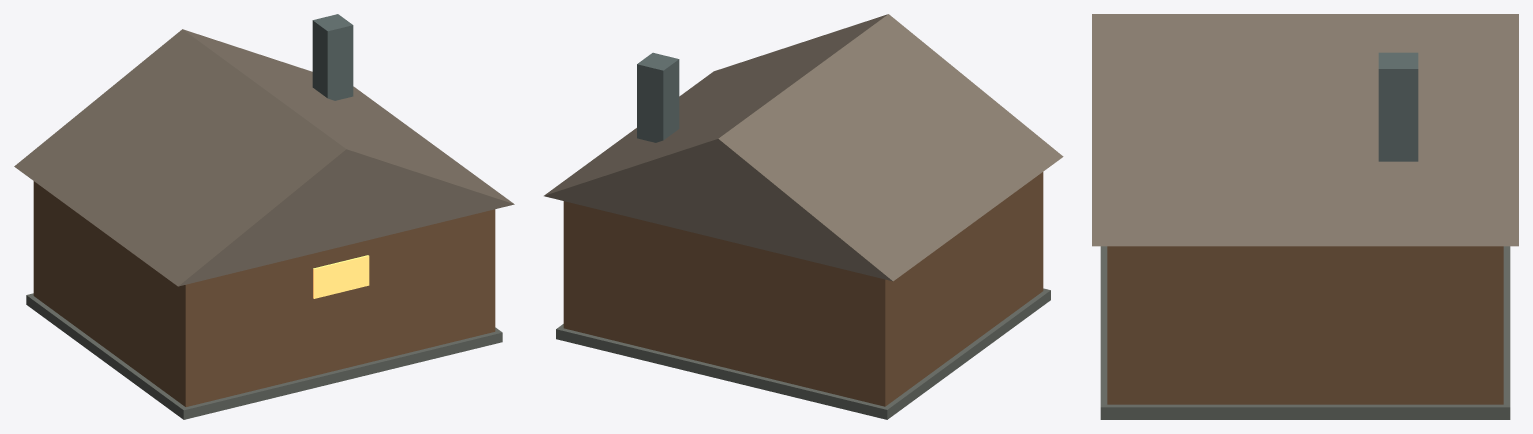
Rendered from alpine-chalet.glb.
3 views of the same model, side by side, from view 1: azimuth 30°, elevation 25°; view 2: azimuth 150°, elevation 25°; view 3: azimuth 270°, elevation 25° (orthographic). The views are drawn at different scales.
Parts seen in each view (by area): view 1: alpine-chalet; view 2: alpine-chalet; view 3: alpine-chalet.
Part boxes in pixels (left/top/right/bottom): alpine-chalet: left=14, top=14, right=514, bottom=419; alpine-chalet: left=544, top=14, right=1063, bottom=419; alpine-chalet: left=1092, top=14, right=1518, bottom=419.
Size of the model in its own units: 8.05 by 5.69 by 6.79.
